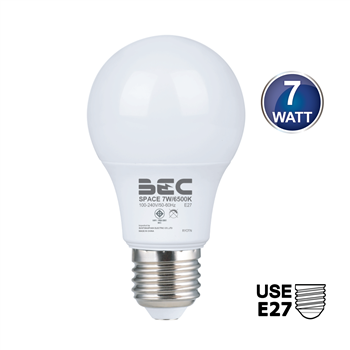Light_bulb: (84, 22, 244, 330)
